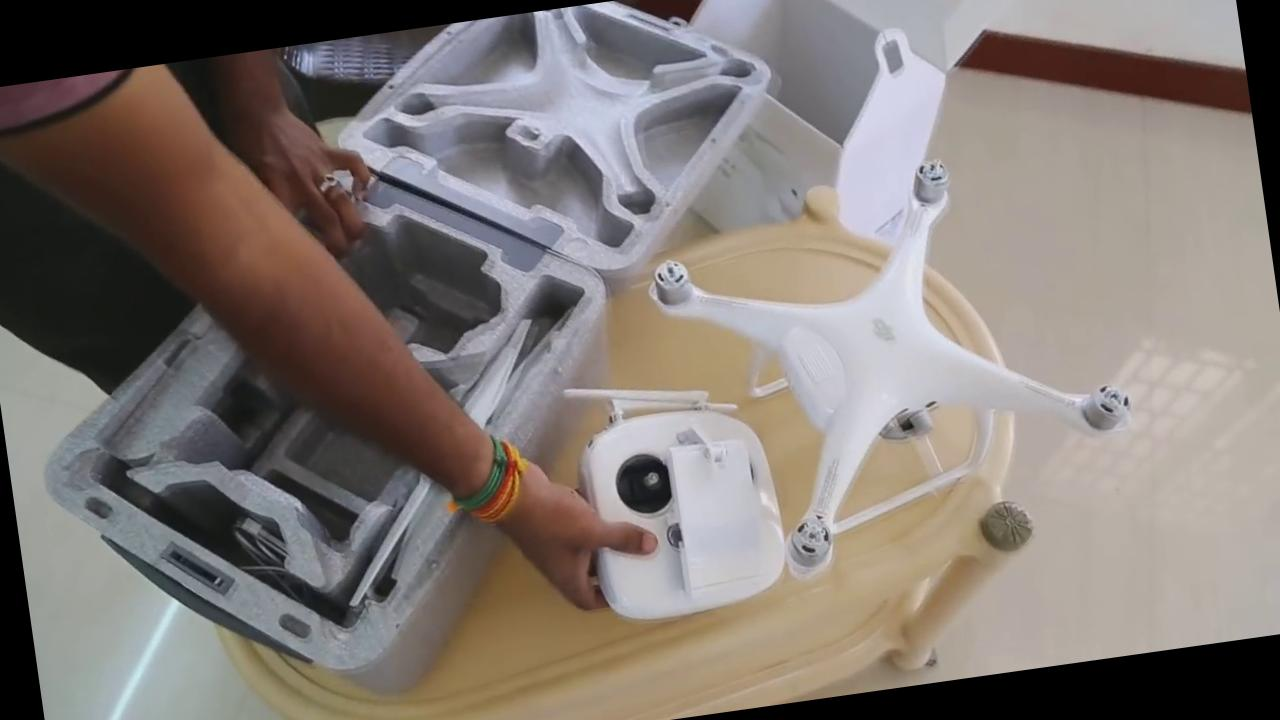drone: (618, 119, 1159, 591)
